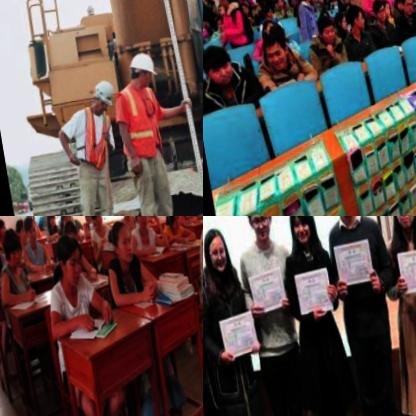head: (53, 234, 84, 288), (203, 40, 233, 91), (203, 222, 230, 278), (106, 218, 135, 268), (284, 216, 318, 249), (240, 216, 276, 245), (260, 33, 286, 73), (0, 227, 23, 268), (313, 11, 334, 47), (383, 216, 416, 235), (61, 221, 80, 252), (345, 5, 365, 33), (12, 218, 30, 247), (22, 218, 39, 247), (161, 216, 181, 234), (370, 0, 385, 23), (131, 216, 149, 233), (398, 0, 414, 18), (211, 15, 225, 32), (261, 17, 273, 36), (86, 216, 102, 230), (380, 0, 391, 20), (262, 3, 274, 19), (43, 216, 55, 230), (214, 2, 225, 17), (237, 1, 248, 15), (58, 216, 69, 230), (0, 216, 6, 241), (392, 0, 403, 12), (79, 216, 93, 225), (273, 0, 284, 9), (211, 0, 230, 5), (117, 216, 132, 222), (294, 0, 311, 5), (285, 0, 295, 5), (240, 0, 247, 7)
helmet: (124, 50, 160, 91), (87, 78, 117, 118)
